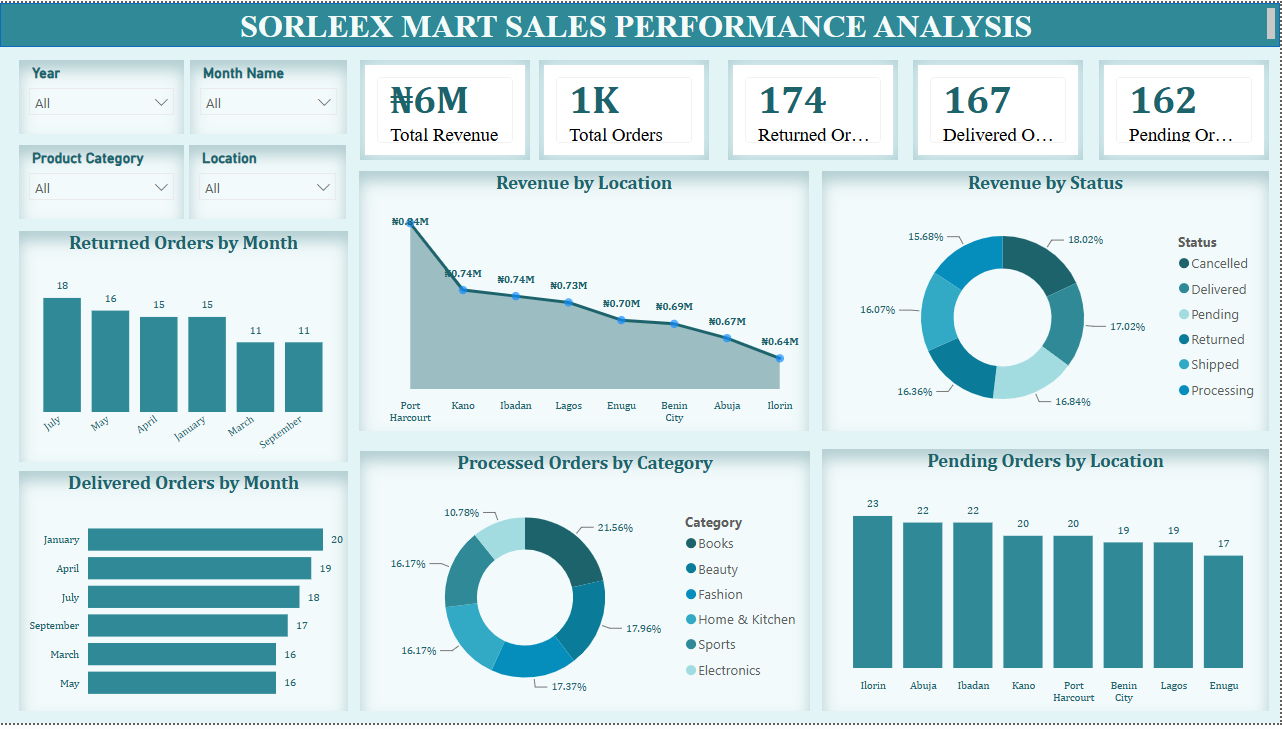

This screenshot's page, from the dashboard's own definition file:
{"tool":"powerbi","page":{"name":"Page 1","canvas":[1280,720],"ordinal":0},"visuals":[{"type":"shape","box":[0,0,1280,44],"z":0},{"type":"textbox","box":[0,0,1280,44],"z":1000},{"type":"textbox","box":[0,0,1280,44],"z":2000},{"type":"cardVisual","fields":{"Data":["ecommerce.Total orders"]},"box":[539,57,170,100],"z":3000},{"type":"cardVisual","fields":{"Data":["ecommerce.TOTAL REVENUE"]},"box":[360,57,170,100],"z":4000},{"type":"cardVisual","fields":{"Data":["ecommerce.Returned Orders"]},"box":[728,57,170,100],"z":5000},{"type":"cardVisual","fields":{"Data":["ecommerce.Delivered orders"]},"box":[913,57,170,100],"z":6000},{"type":"cardVisual","fields":{"Data":["ecommerce.pending"]},"box":[1098.9,56.7,170,100],"z":7000},{"type":"areaChart","title":" Revenue by Location","fields":{"Category":["ecommerce.Customer_Location"],"Y":["ecommerce.Total Revenue"]},"box":[359,168,450,260],"z":8000},{"type":"donutChart","title":"Revenue by Status","fields":{"Category":["ecommerce.Status"],"Y":["ecommerce.Total Revenue"]},"box":[822,168,447,260],"z":9000},{"type":"clusteredBarChart","title":"Delivered Orders by Month ","fields":{"Category":["ecommerce.Month Name"],"Y":["ecommerce.Delivered orders"]},"box":[19,468,329,240],"z":10000},{"type":"clusteredColumnChart","title":"Pending Orders by Location","fields":{"Category":["ecommerce.Customer_Location"],"Y":["ecommerce.pending"]},"box":[822,446,447,262],"z":11000},{"type":"donutChart","title":"Processed Orders by Category","fields":{"Category":["ecommerce.Product_Category"],"Y":["ecommerce.Processing"]},"box":[360,448,450,260],"z":12000},{"type":"slicer","fields":{"Values":["ecommerce.Month Name"]},"box":[190,57,157,74],"z":13000},{"type":"slicer","fields":{"Values":["ecommerce.Product_Category"]},"box":[19,142,165,74],"z":14000},{"type":"slicer","fields":{"Values":["ecommerce.Customer_Location"]},"box":[189,142,157,74],"z":15000},{"type":"slicer","fields":{"Values":["ecommerce.Order_Date.Variation.Date Hierarchy.Year"]},"box":[19,57,165,74],"z":16000},{"type":"columnChart","title":"Returned Orders by Month ","fields":{"Category":["ecommerce.Month Name"],"Y":["ecommerce.Returned Orders"]},"box":[19,228,329,231],"z":17000}]}

Visuals, with their boxes in screenshot pixels (x1, y1, x2, y2), scaled from the page's 1280x720 canvas onto the 1282x729 screenshot:
shape: [0,0,1281,45]
textbox: [0,0,1281,45]
textbox: [0,0,1281,45]
cardVisual - ecommerce.Total orders: [540,58,710,159]
cardVisual - ecommerce.TOTAL REVENUE: [361,58,531,159]
cardVisual - ecommerce.Returned Orders: [729,58,899,159]
cardVisual - ecommerce.Delivered orders: [914,58,1085,159]
cardVisual - ecommerce.pending: [1101,57,1271,159]
" Revenue by Location" areaChart: [360,170,810,433]
"Revenue by Status" donutChart: [823,170,1271,433]
"Delivered Orders by Month " clusteredBarChart: [19,474,349,717]
"Pending Orders by Location" clusteredColumnChart: [823,452,1271,717]
"Processed Orders by Category" donutChart: [361,454,811,717]
slicer - ecommerce.Month Name: [190,58,348,133]
slicer - ecommerce.Product_Category: [19,144,184,219]
slicer - ecommerce.Customer_Location: [189,144,347,219]
slicer - ecommerce.Order_Date.Variation.Date Hierarchy.Year: [19,58,184,133]
"Returned Orders by Month " columnChart: [19,231,349,465]
